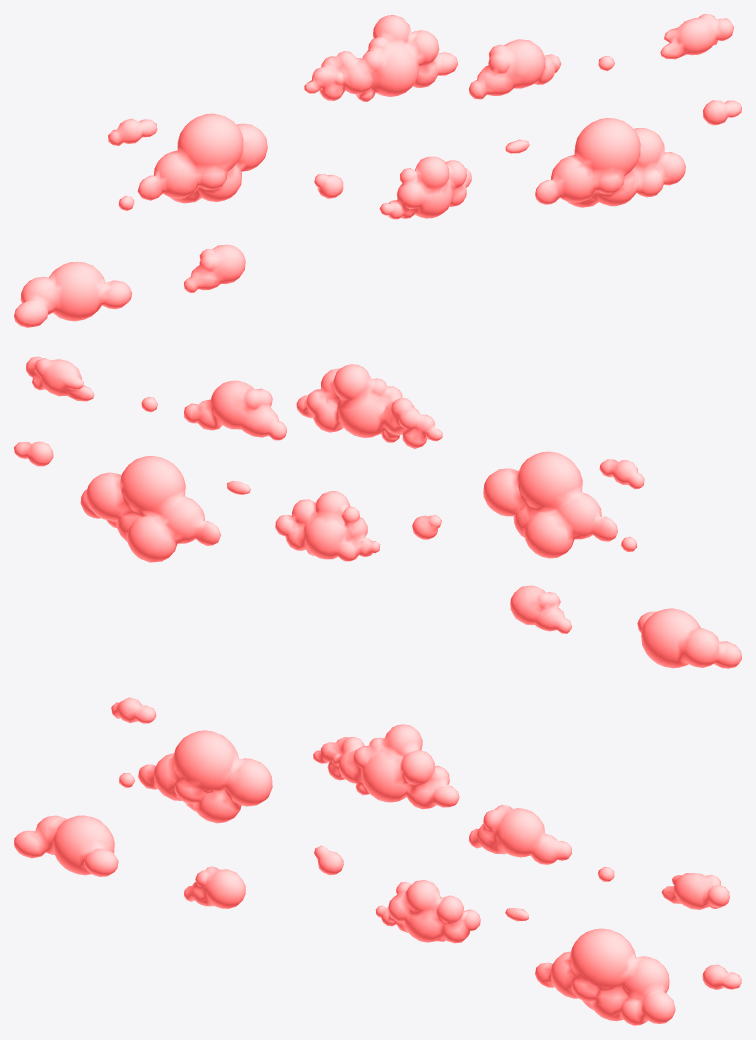
The model's file is free_clouds.glb.
3 views of the same model, one above another, from view 1: azimuth 30°, elevation 25°; view 2: azimuth 150°, elevation 25°; view 3: azimuth 330°, elevation 25° (orthographic).
Visible parts, largest first — view 1: Clouds03, Clouds014, Clouds01, Clouds09, Clouds02, Clouds06, Clouds012, Clouds011, Clouds013, Clouds04, Clouds010; view 2: Clouds03, Clouds014, Clouds01, Clouds02, Clouds09, Clouds06, Clouds011, Clouds012, Clouds013, Clouds04, Clouds010; view 3: Clouds03, Clouds014, Clouds01, Clouds09, Clouds02, Clouds06, Clouds011, Clouds012, Clouds013, Clouds04, Clouds010.
Part boxes in pixels (bbox=[...]): Clouds03: bbox=[535, 118, 685, 207]; Clouds014: bbox=[137, 113, 267, 203]; Clouds01: bbox=[304, 15, 457, 101]; Clouds09: bbox=[14, 261, 132, 327]; Clouds02: bbox=[379, 156, 471, 219]; Clouds06: bbox=[469, 39, 561, 99]; Clouds012: bbox=[660, 14, 734, 59]; Clouds011: bbox=[184, 244, 245, 292]; Clouds013: bbox=[108, 118, 157, 145]; Clouds04: bbox=[703, 100, 741, 125]; Clouds010: bbox=[314, 174, 343, 198]; Clouds03: bbox=[80, 456, 220, 562]; Clouds014: bbox=[483, 451, 617, 558]; Clouds01: bbox=[296, 364, 442, 448]; Clouds02: bbox=[275, 491, 380, 561]; Clouds09: bbox=[637, 608, 741, 668]; Clouds06: bbox=[184, 380, 286, 440]; Clouds011: bbox=[510, 585, 571, 633]; Clouds012: bbox=[26, 356, 94, 401]; Clouds013: bbox=[599, 459, 644, 489]; Clouds04: bbox=[14, 441, 53, 466]; Clouds010: bbox=[412, 515, 441, 539]; Clouds03: bbox=[535, 928, 675, 1025]; Clouds014: bbox=[138, 730, 272, 823]; Clouds01: bbox=[313, 724, 459, 809]; Clouds09: bbox=[14, 815, 118, 876]; Clouds02: bbox=[375, 879, 480, 943]; Clouds06: bbox=[469, 804, 571, 864]; Clouds011: bbox=[184, 866, 245, 908]; Clouds012: bbox=[661, 873, 729, 909]; Clouds013: bbox=[111, 697, 156, 723]; Clouds04: bbox=[702, 964, 741, 989]; Clouds010: bbox=[314, 845, 343, 875].
Bounding box in the file's own units: 1.56 × 0.4903 × 0.1428.
